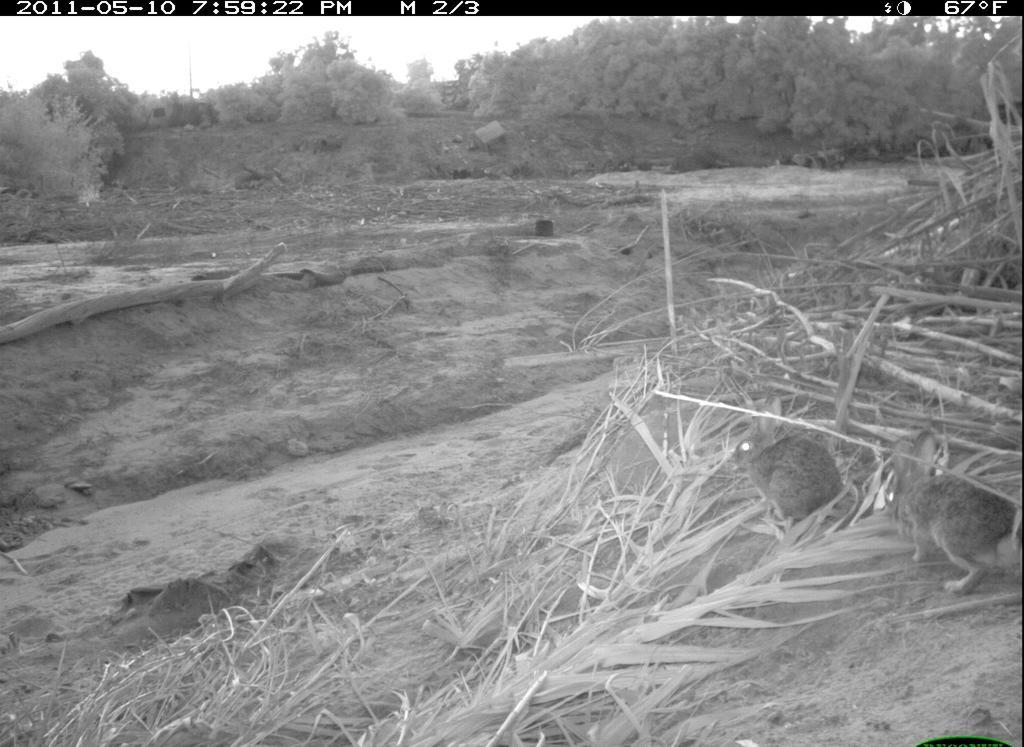rabbit: (885, 431, 1021, 592), (728, 420, 853, 528)
